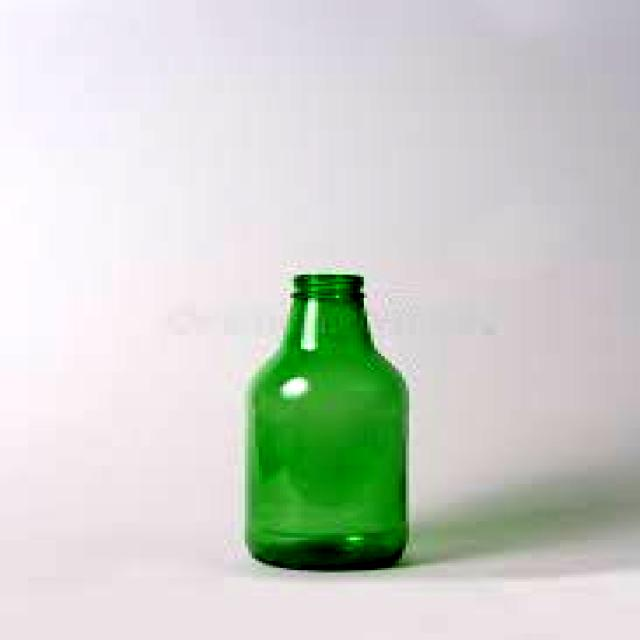Glass: (238, 270, 416, 572)
